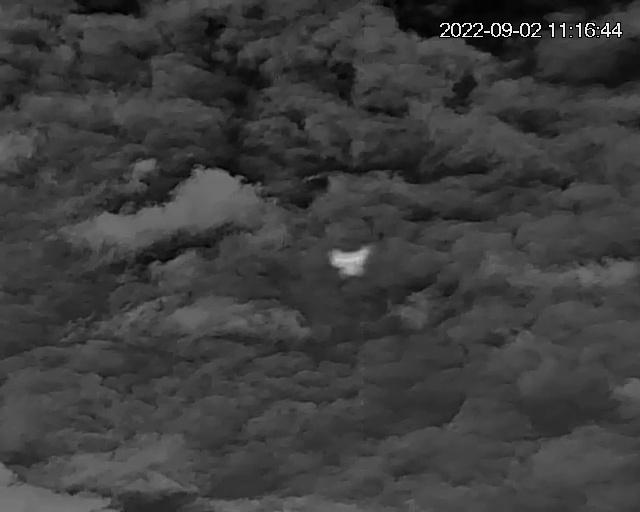DJI-Phantom: (328, 248, 377, 281)
